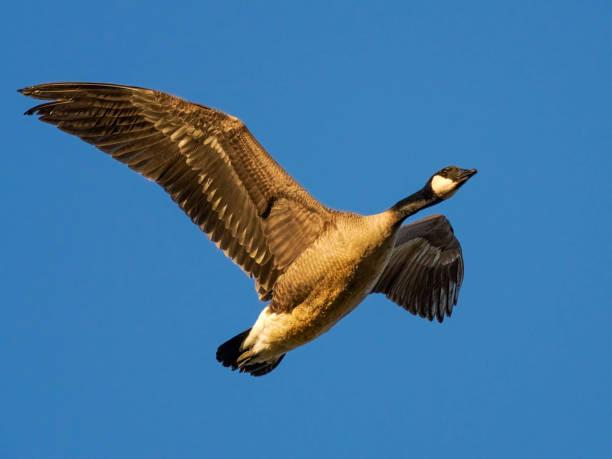Canadian-Goose: (17, 77, 482, 379)
